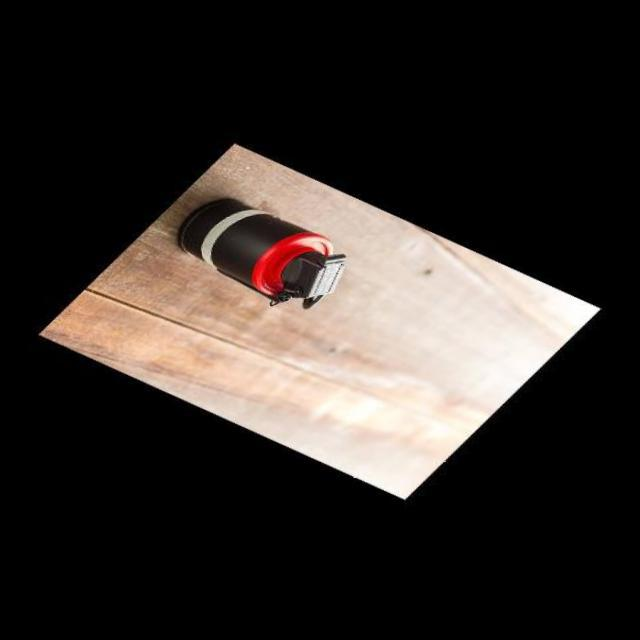grenade: (166, 165, 364, 327)
